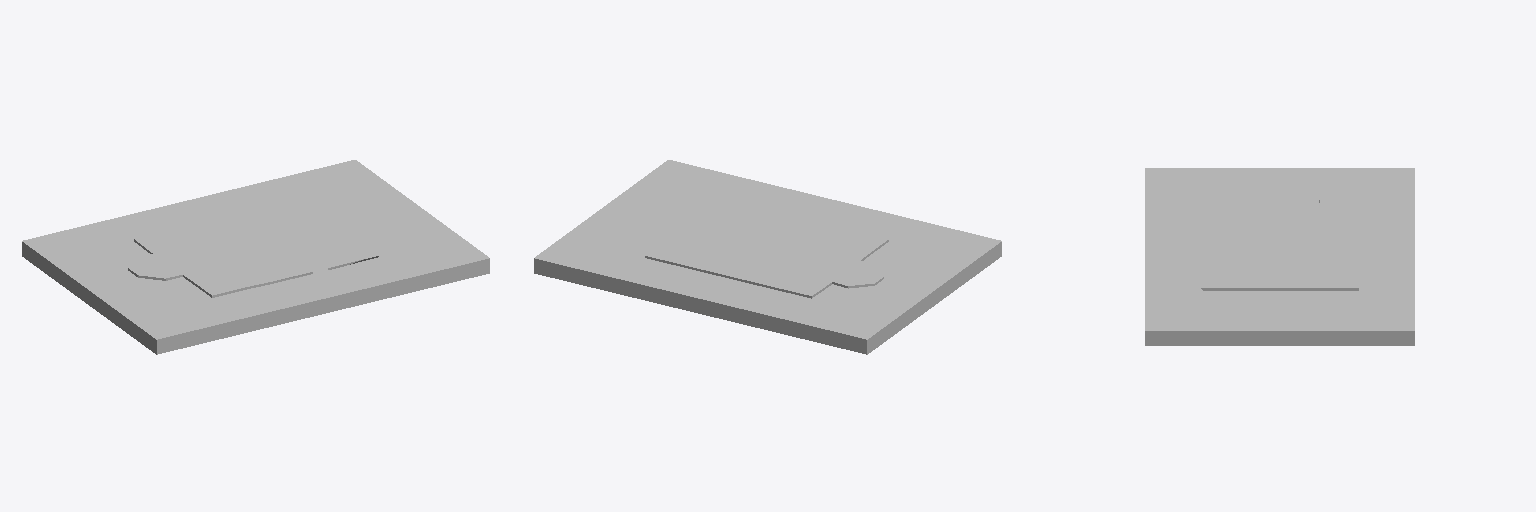
File: f1_col.obj
3 renders of one model, left to right at view 1: azimuth 30°, elevation 25°; view 2: azimuth 150°, elevation 25°; view 3: azimuth 270°, elevation 25°, orthographic.
Visible parts, largest first — view 1: Plane; view 2: Plane; view 3: Plane.
Part boxes in pixels (x1,y1,x2,y2): Plane: (22, 160, 489, 354); Plane: (534, 160, 1001, 354); Plane: (1145, 168, 1414, 345).
Size of the model in its own units: 6.1 by 0.3041 by 4.27.